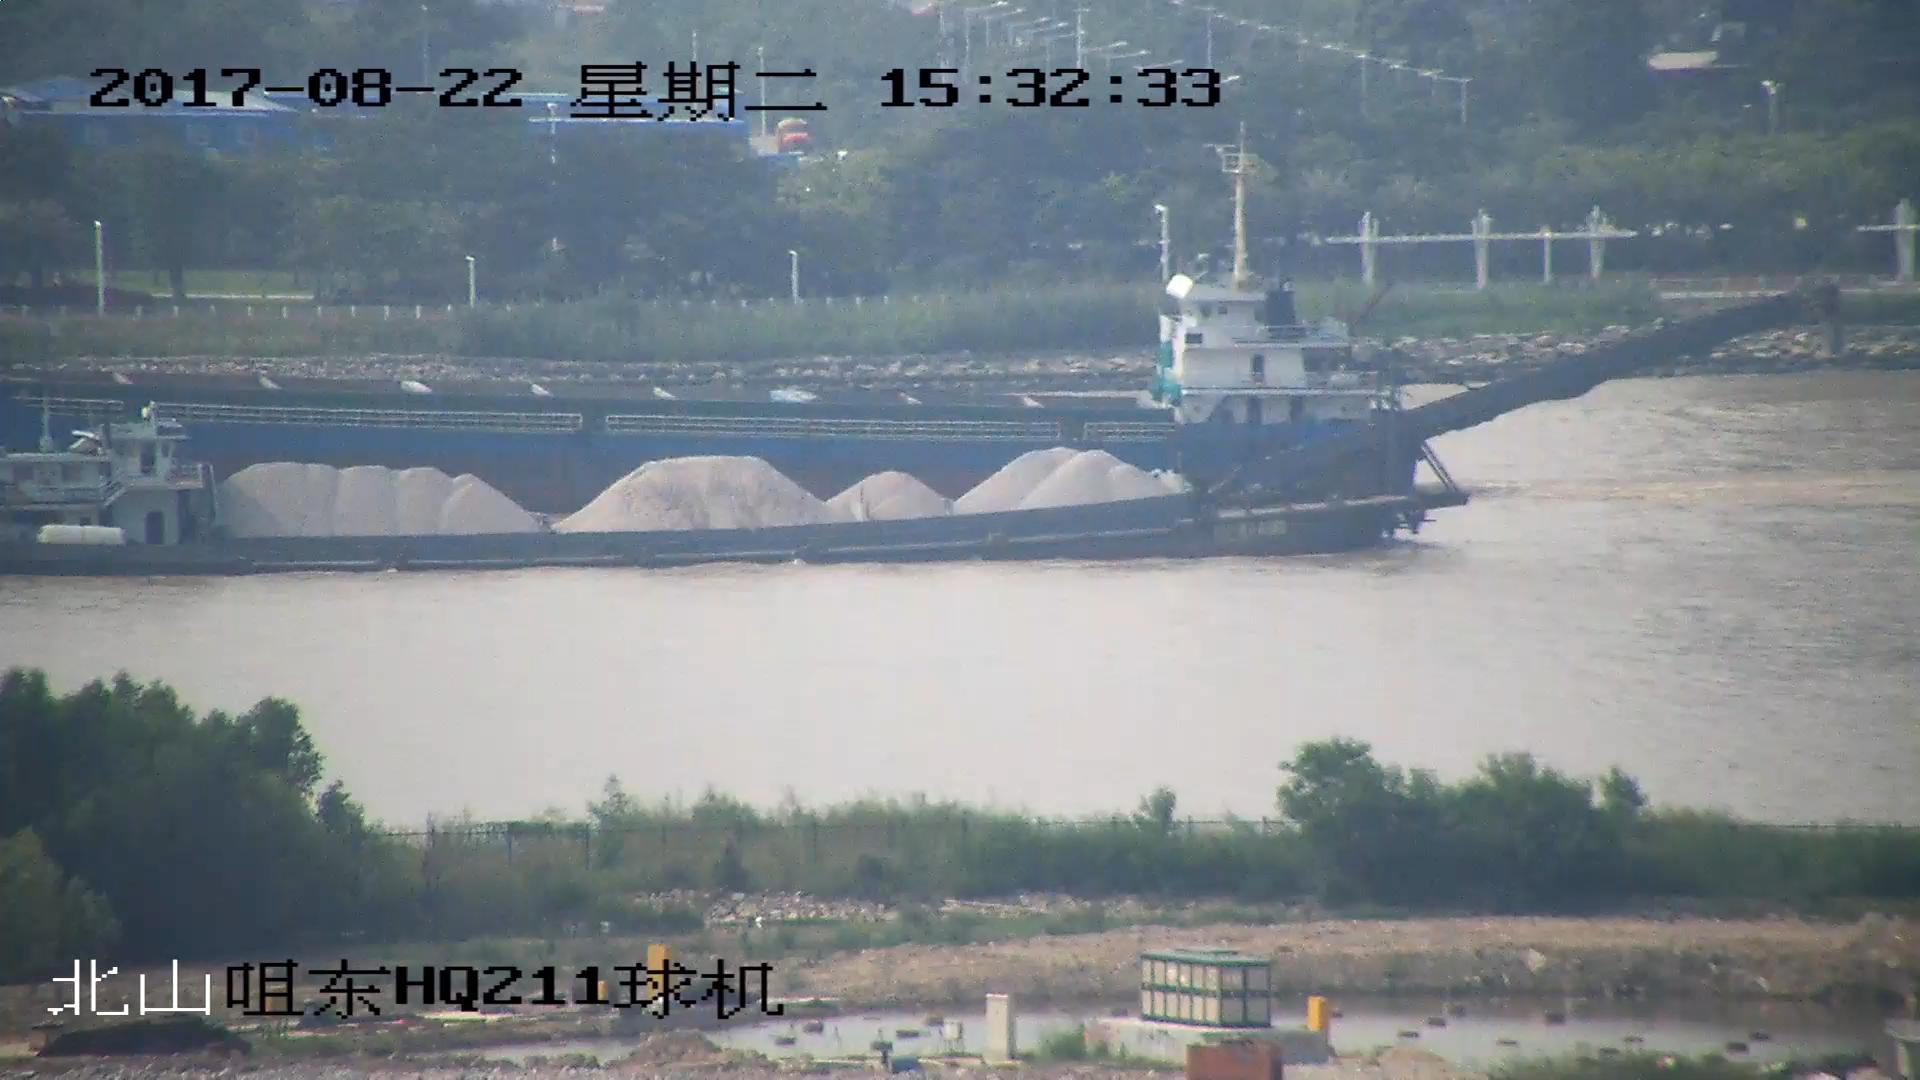Ship: (3, 289, 1847, 578), (3, 138, 1433, 504)
